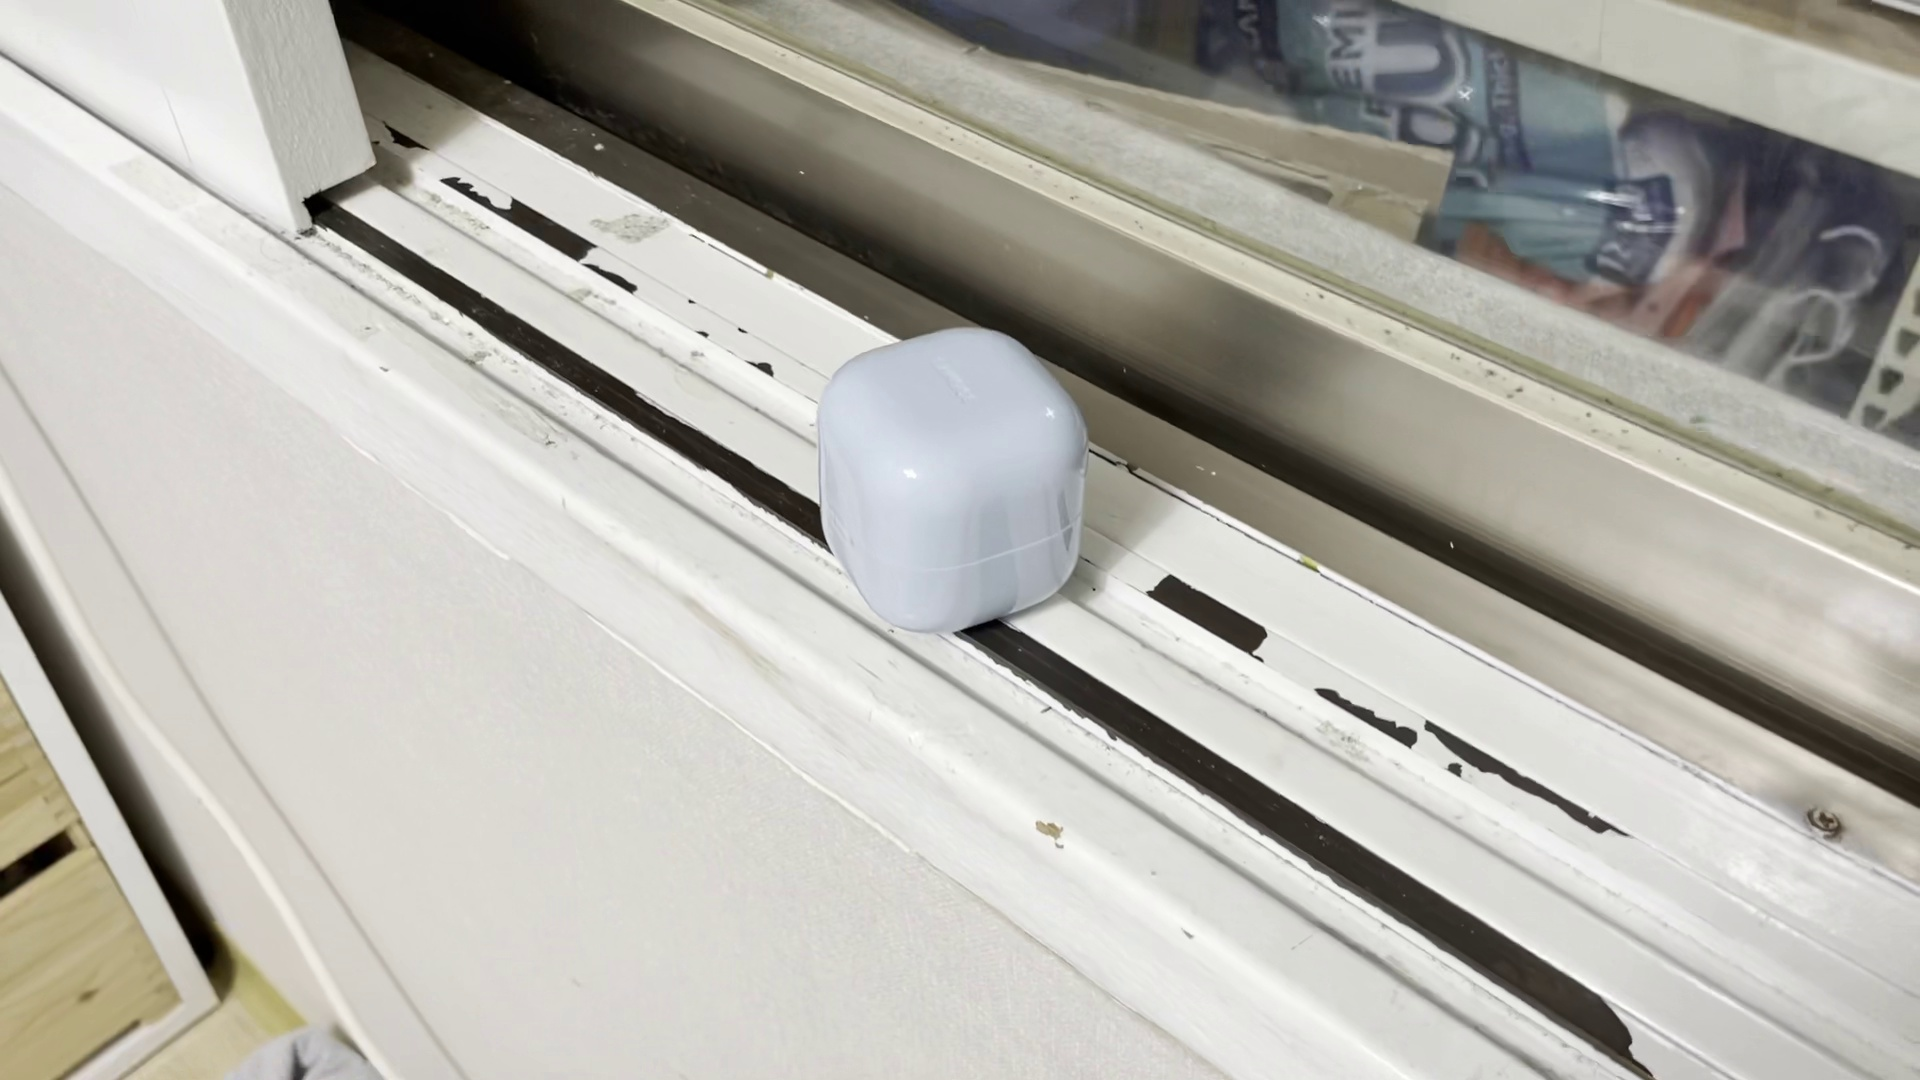cream: (822, 320, 1091, 632)
